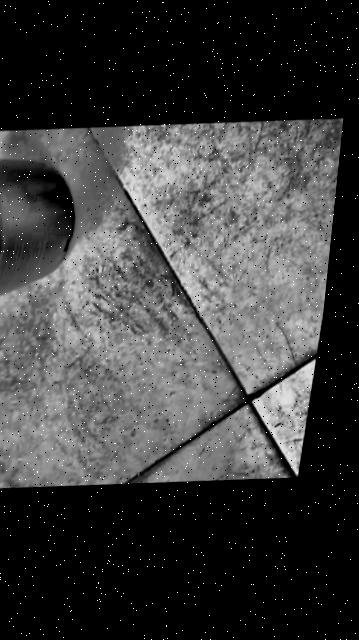pot: (0, 132, 86, 329)
